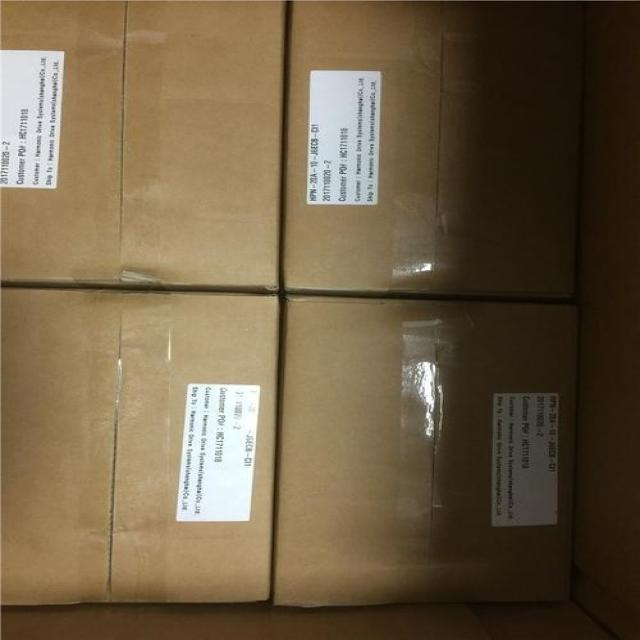box: (273, 293, 579, 608), (282, 0, 586, 300), (0, 285, 282, 605), (0, 1, 288, 293)
